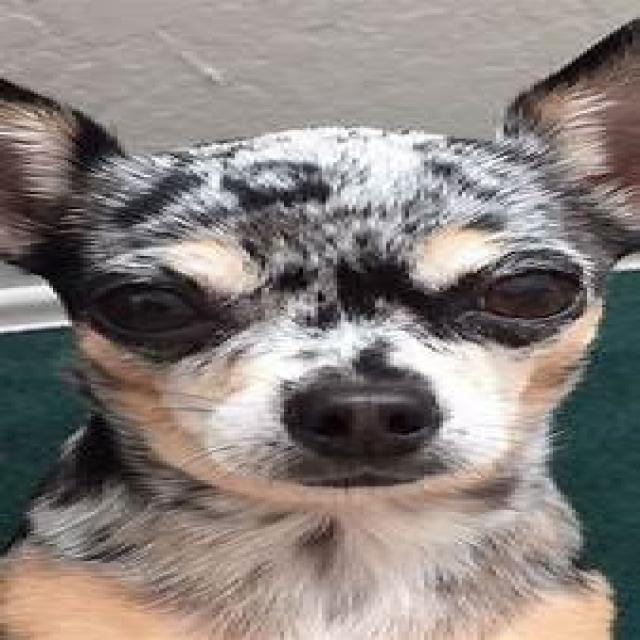dog: (0, 17, 640, 640)
